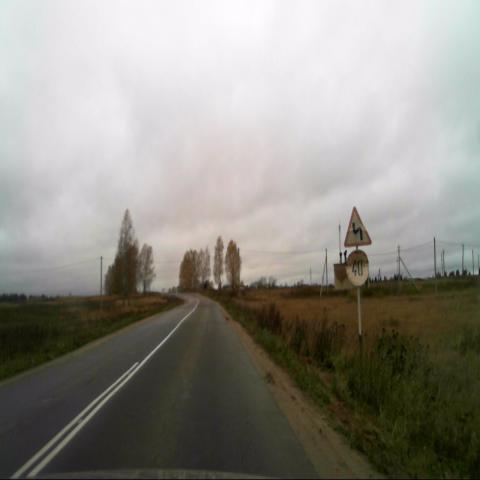1_12_2: (344, 205, 372, 248)
